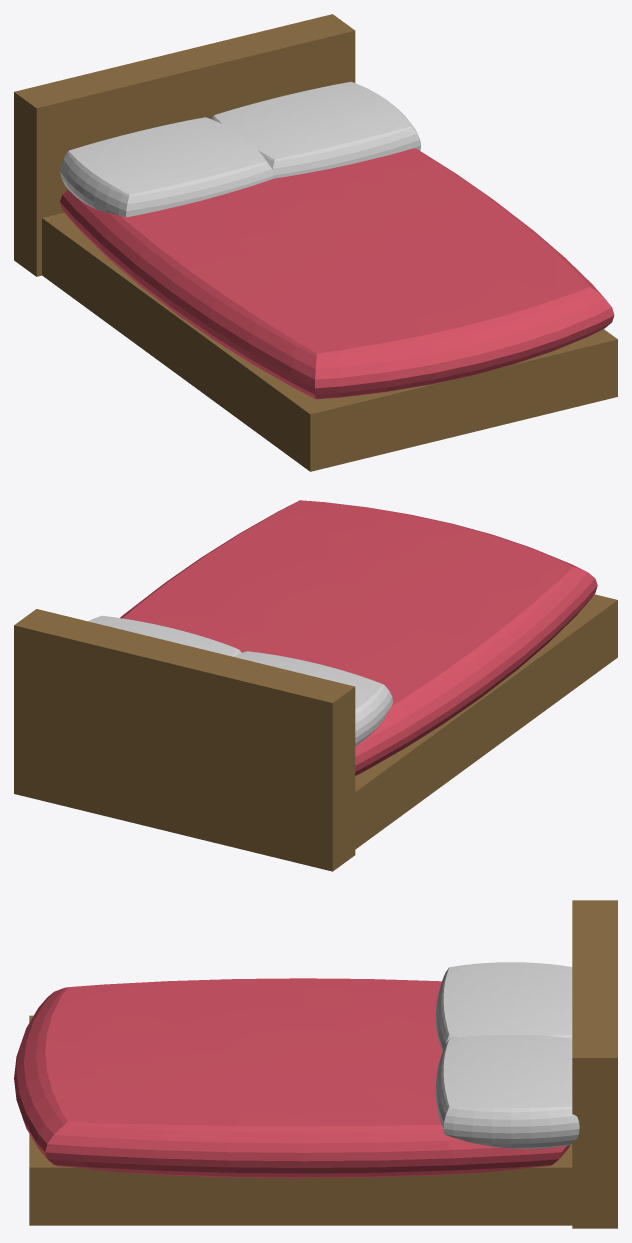
File: bed(1).glb
The picture shows the model from 3 angles, top to bottom: view 1: azimuth 30°, elevation 25°; view 2: azimuth 150°, elevation 25°; view 3: azimuth 270°, elevation 25°; orthographic projection.
Visible parts, largest first — view 1: Mesh_Mesh_head_geo.001_lambert2SG.001; view 2: Mesh_Mesh_head_geo.001_lambert2SG.001; view 3: Mesh_Mesh_head_geo.001_lambert2SG.001.
Part boxes in pixels (x1,y1,x2,y2): Mesh_Mesh_head_geo.001_lambert2SG.001: (14, 14, 617, 471); Mesh_Mesh_head_geo.001_lambert2SG.001: (14, 500, 617, 871); Mesh_Mesh_head_geo.001_lambert2SG.001: (14, 900, 617, 1228).
Size of the model in its own units: 0.025 by 0.012 by 0.0385.
